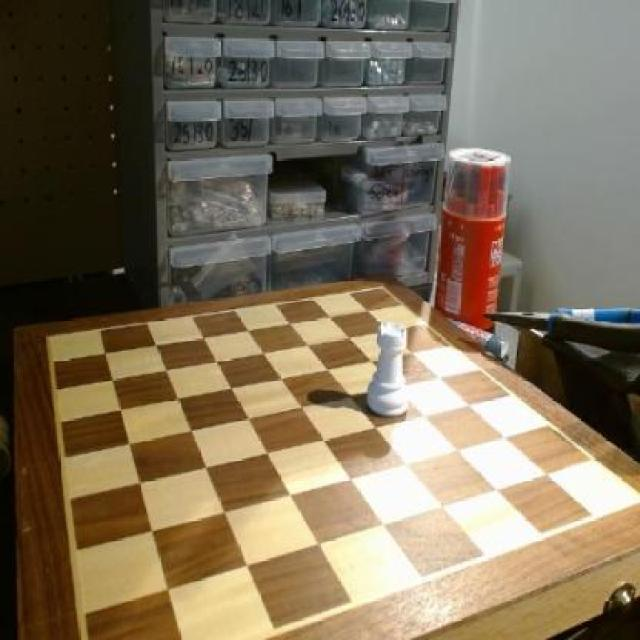white-queen: (366, 314, 412, 426)
